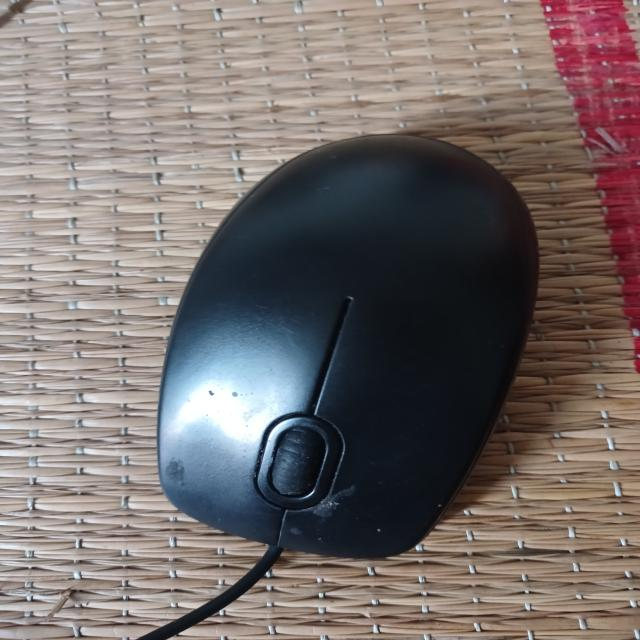mouse: (153, 126, 546, 558)
